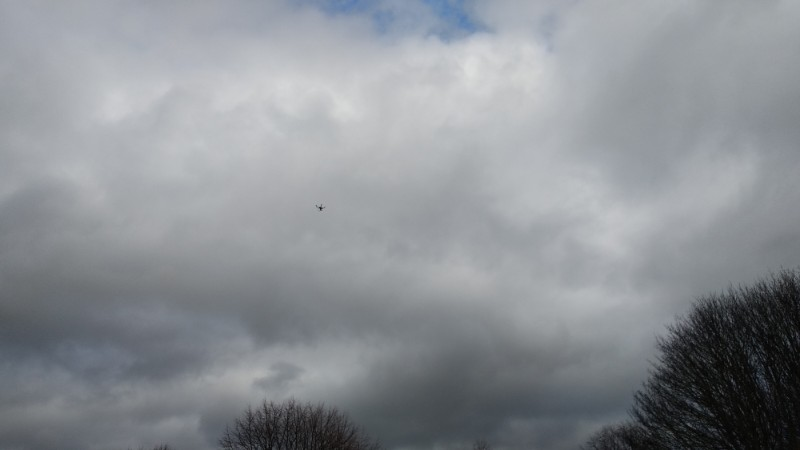drone: (314, 202, 326, 212)
